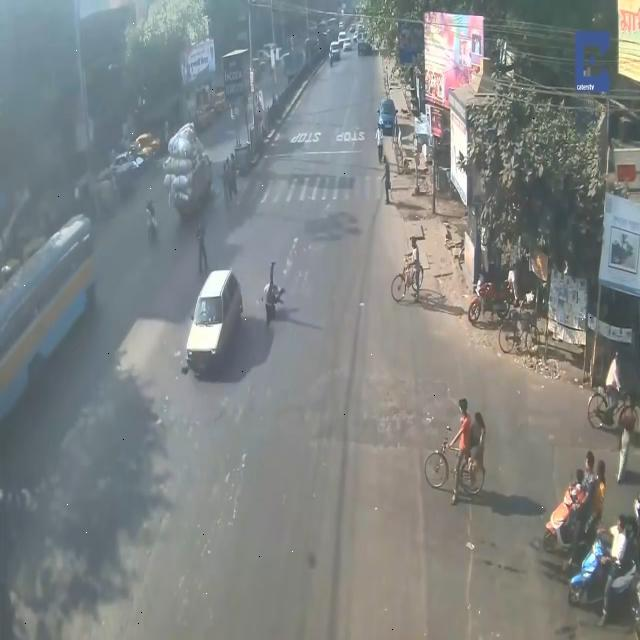accident: (185, 250, 308, 374)
